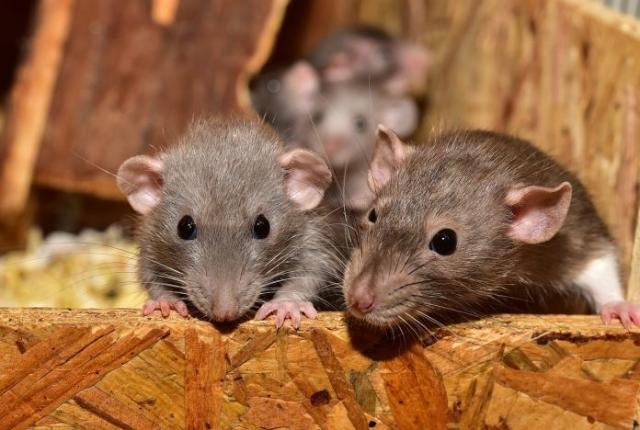rat: (91, 95, 346, 339), (328, 110, 586, 342)
